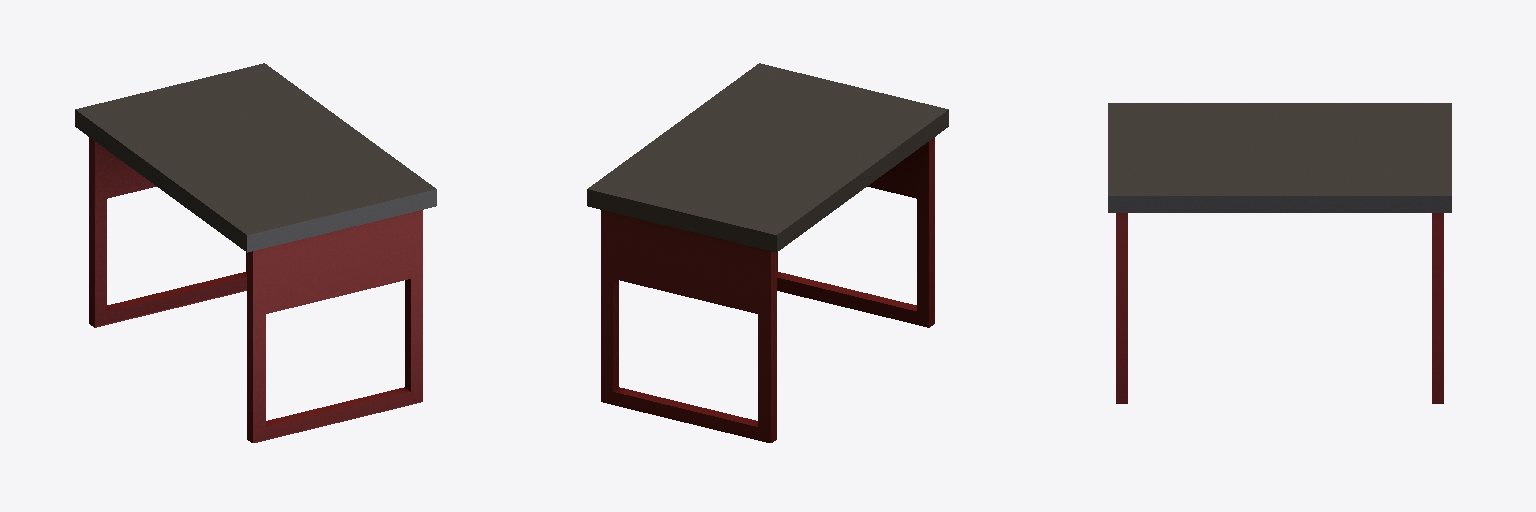
3 views of the same model, side by side, from view 1: azimuth 30°, elevation 25°; view 2: azimuth 150°, elevation 25°; view 3: azimuth 270°, elevation 25° (orthographic).
Parts seen in each view (by area): view 1: Cube; view 2: Cube; view 3: Cube.
Boxes of the visible parts, box(x1,y1,x2,y2) form: Cube: box(75, 63, 436, 442); Cube: box(587, 63, 948, 442); Cube: box(1108, 103, 1451, 403).
Bounding box in the file's own units: 1.4 × 1.51 × 2.2.
Materials: 1 (1 with a texture image).